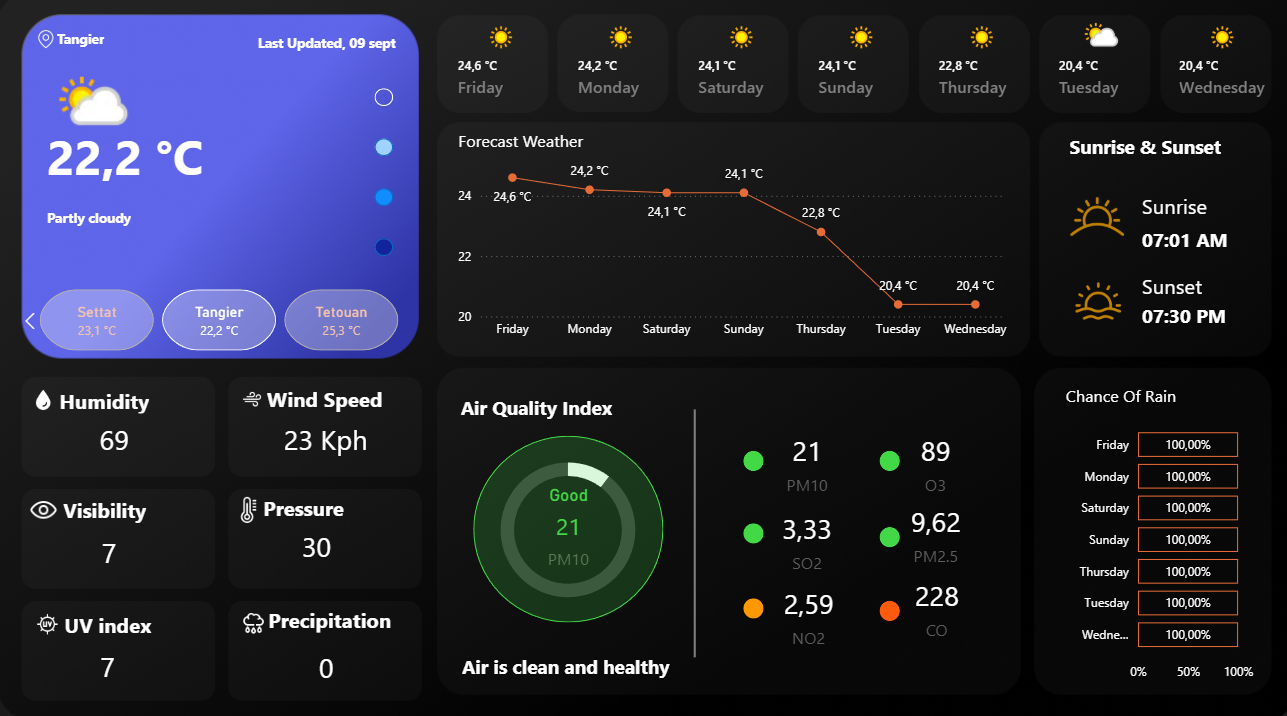

What the dashboard file says about the page in this screenshot:
{"tool":"powerbi","page":{"name":"Page 1","canvas":[1280,720],"ordinal":0},"visuals":[{"type":"advancedSlicerVisual","fields":{"Values":["Locations.location.name"]},"box":[17.7,287.7,402.3,70.8],"z":0},{"type":"shape","box":[49.2,110,198.5,100],"z":1000},{"type":"shape","box":[49.2,207.7,142.3,27.7],"z":2000},{"type":"shape","box":[59.2,32.3,113.8,26.9],"z":3000},{"type":"shape","box":[191.5,35.4,200,26.9],"z":4000},{"type":"image","box":[33.8,29.2,27.7,33.1],"z":5000},{"type":"cardVisual","fields":{"Data":["Min(Current.current.condition.icon)"]},"box":[23.1,54.6,129.2,96.9],"z":6000},{"type":"image","box":[21.1,487.8,50,40],"z":7000},{"type":"shape","box":[61.5,386.9,95.4,27.7],"z":8000},{"type":"image","box":[226.7,491.1,40,35.6],"z":9000},{"type":"image","box":[232.3,385.4,36.2,29.2],"z":10000},{"type":"image","box":[33.1,604.6,32.3,31.5],"z":11000},{"type":"image","box":[24.6,385.4,42.3,30.8],"z":12000},{"type":"image","box":[227.7,602.3,46.9,34.6],"z":13000},{"type":"shape","box":[264.6,385.4,115.4,28.5],"z":14000},{"type":"shape","box":[64.4,493.3,92.2,28.9],"z":15000},{"type":"shape","box":[261.1,491.1,86.7,28.9],"z":16000},{"type":"shape","box":[266.7,602.2,124.4,26.7],"z":17000},{"type":"shape","box":[66.2,606.9,100,26.9],"z":18000},{"type":"card","fields":{"Values":["Sum(Current.current.humidity)"]},"box":[81.5,420,68.5,40.8],"z":19000},{"type":"card","fields":{"Values":["Sum(Current.current.precip_in)"]},"box":[289.2,643.8,67.7,40.8],"z":20000},{"type":"card","fields":{"Values":["Sum(Current.current.uv)"]},"box":[75.4,643.1,67.7,41.5],"z":21000},{"type":"card","fields":{"Values":["_Measures.Wind_Speed"]},"box":[253.8,420,137.7,40.8],"z":22000},{"type":"card","fields":{"Values":["Sum(Current.current.pressure_in)"]},"box":[280,525.5,68.2,40.9],"z":23000},{"type":"card","fields":{"Values":["Sum(Current.current.vis_km)"]},"box":[76.4,531.8,68.2,40.9],"z":24000},{"type":"advancedSlicerVisual","fields":{"Values":["Forcast_Day.Day_Name"]},"box":[433.8,18.8,828.8,91.2],"z":25000},{"type":"lineChart","title":"Forecast Weather","fields":{"Y":["Sum(Forcast_Day.forecast.forecastday.day.avgtemp_c)"],"Category":["Forcast_Day.Day_Name"]},"box":[447.5,135,555,213.8],"z":26000},{"type":"shape","box":[1052.5,120,185,63.8],"z":27000},{"type":"shape","box":[1123.3,295.6,92.2,43.3],"z":28000},{"type":"shape","box":[1123.3,216.7,100,50],"z":29000},{"type":"shape","box":[1123.3,273.3,115.6,28.9],"z":30000},{"type":"shape","box":[1123.3,195.6,115.6,28.9],"z":31000},{"type":"image","box":[1036.7,180,86.7,80],"z":32000},{"type":"image","box":[1044.4,275.6,73.3,54.4],"z":33000},{"type":"hundredPercentStackedBarChart","title":"Chance Of Rain ","fields":{"Y":["Sum(Forcast_Day.forecast.forecastday.day.daily_chance_of_rain)","Sum(Forcast_Day.Left_vlaue_Rain)"],"Category":["Forcast_Day.Day_Name"]},"box":[1044.3,385.7,194.3,300],"z":34000},{"type":"shape","box":[455.7,375.7,184.3,64.3],"z":35000},{"type":"card","fields":{"Values":["Sum(Current.current.air_quality.pm2_5)"]},"box":[858.7,488,126,87.3],"z":36000},{"type":"card","fields":{"Values":["Sum(Current.current.air_quality.co)"]},"box":[852.7,560.7,140,87.3],"z":37000},{"type":"card","fields":{"Values":["Sum(Current.current.air_quality.pm10)"]},"box":[732.7,418.7,126,87.3],"z":38000},{"type":"card","fields":{"Values":["Sum(Current.current.air_quality.so2)"]},"box":[703.3,494,184.7,87.3],"z":39000},{"type":"card","fields":{"Values":["Sum(Current.current.air_quality.no2)"]},"box":[723.3,568.7,146,87.3],"z":40000},{"type":"card","fields":{"Values":["Sum(Current.current.air_quality.o3)"]},"box":[858.7,418,125.3,87.3],"z":41000},{"type":"shape","box":[732.7,450.7,20,20],"z":42000},{"type":"shape","box":[866,598,20,20],"z":43000},{"type":"shape","box":[732.7,522,20,20],"z":44000},{"type":"shape","box":[866,525.3,20,20],"z":45000},{"type":"shape","box":[732.7,594.7,20,20],"z":46000},{"type":"shape","box":[866,450.7,20,20],"z":47000},{"type":"shape","box":[578,410,214,243.3],"z":48000},{"type":"card","fields":{"Values":["Sum(Current.current.air_quality.pm10)"]},"box":[515,483.3,91.7,86.7],"z":49000},{"type":"donutChart","fields":{"Y":["Sum(Current.current.air_quality.pm10)","_Measures.Left_value_PM10"]},"box":[443.3,440.7,235.3,175.3],"z":50000},{"type":"shape","box":[467.5,435.8,186.7,183.3],"z":51000},{"type":"shape","box":[455.8,629.2,244.2,64.2],"z":52000},{"type":"shape","box":[370.8,143.3,18.3,17.5],"z":52001},{"type":"shape","box":[370.8,94.2,18.3,17.5],"z":52002},{"type":"shape","box":[370.8,192.5,18.3,17.5],"z":52003},{"type":"shape","box":[370.8,241.7,18.3,17.5],"z":52004}]}

Visuals, with their boxes in screenshot pixels (x1, y1, x2, y2), scaled from the page's 1280x720 canvas onto the 1287x716 screenshot:
advancedSlicerVisual - Locations.location.name: Rect(18, 286, 422, 357)
shape: Rect(49, 109, 249, 209)
shape: Rect(49, 207, 193, 234)
shape: Rect(60, 32, 174, 59)
shape: Rect(193, 35, 394, 62)
image: Rect(34, 29, 62, 62)
cardVisual - Min(Current.current.condition.icon): Rect(23, 54, 153, 151)
image: Rect(21, 485, 71, 525)
shape: Rect(62, 385, 158, 412)
image: Rect(228, 488, 268, 524)
image: Rect(234, 383, 270, 412)
image: Rect(33, 601, 66, 633)
image: Rect(25, 383, 67, 414)
image: Rect(229, 599, 276, 633)
shape: Rect(266, 383, 382, 412)
shape: Rect(65, 491, 157, 519)
shape: Rect(263, 488, 350, 517)
shape: Rect(268, 599, 393, 625)
shape: Rect(67, 604, 167, 630)
card - Sum(Current.current.humidity): Rect(82, 418, 151, 458)
card - Sum(Current.current.precip_in): Rect(291, 640, 359, 681)
card - Sum(Current.current.uv): Rect(76, 640, 144, 681)
card - _Measures.Wind_Speed: Rect(255, 418, 394, 458)
card - Sum(Current.current.pressure_in): Rect(282, 523, 350, 563)
card - Sum(Current.current.vis_km): Rect(77, 529, 145, 570)
advancedSlicerVisual - Forcast_Day.Day_Name: Rect(436, 19, 1270, 109)
"Forecast Weather" lineChart: Rect(450, 134, 1008, 347)
shape: Rect(1058, 119, 1244, 183)
shape: Rect(1129, 294, 1222, 337)
shape: Rect(1129, 215, 1230, 265)
shape: Rect(1129, 272, 1246, 301)
shape: Rect(1129, 195, 1246, 223)
image: Rect(1042, 179, 1130, 259)
image: Rect(1050, 274, 1124, 328)
"Chance Of Rain " hundredPercentStackedBarChart: Rect(1050, 384, 1245, 682)
shape: Rect(458, 374, 644, 438)
card - Sum(Current.current.air_quality.pm2_5): Rect(863, 485, 990, 572)
card - Sum(Current.current.air_quality.co): Rect(857, 558, 998, 644)
card - Sum(Current.current.air_quality.pm10): Rect(737, 416, 863, 503)
card - Sum(Current.current.air_quality.so2): Rect(707, 491, 893, 578)
card - Sum(Current.current.air_quality.no2): Rect(727, 566, 874, 652)
card - Sum(Current.current.air_quality.o3): Rect(863, 416, 989, 502)
shape: Rect(737, 448, 757, 468)
shape: Rect(871, 595, 891, 615)
shape: Rect(737, 519, 757, 539)
shape: Rect(871, 522, 891, 542)
shape: Rect(737, 591, 757, 611)
shape: Rect(871, 448, 891, 468)
shape: Rect(581, 408, 796, 650)
card - Sum(Current.current.air_quality.pm10): Rect(518, 481, 610, 567)
donutChart - Sum(Current.current.air_quality.pm10) x _Measures.Left_value_PM10: Rect(446, 438, 682, 613)
shape: Rect(470, 433, 658, 616)
shape: Rect(458, 626, 704, 690)
shape: Rect(373, 143, 391, 160)
shape: Rect(373, 94, 391, 111)
shape: Rect(373, 191, 391, 209)
shape: Rect(373, 240, 391, 258)
